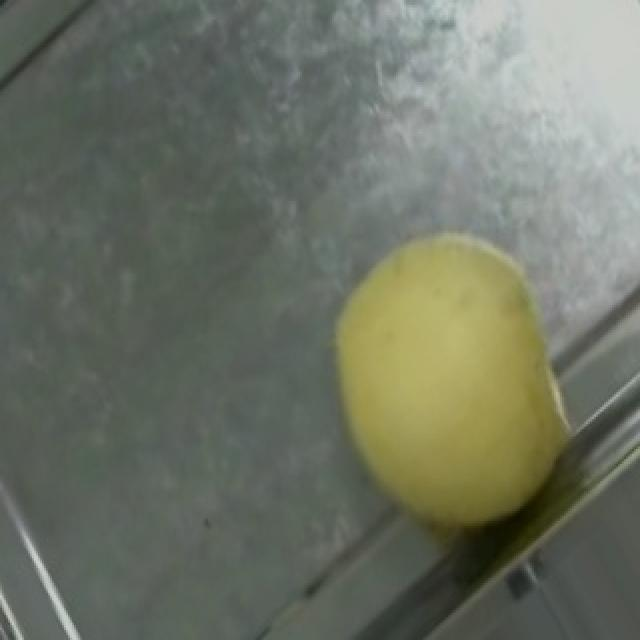Fruit: (282, 189, 620, 573)
